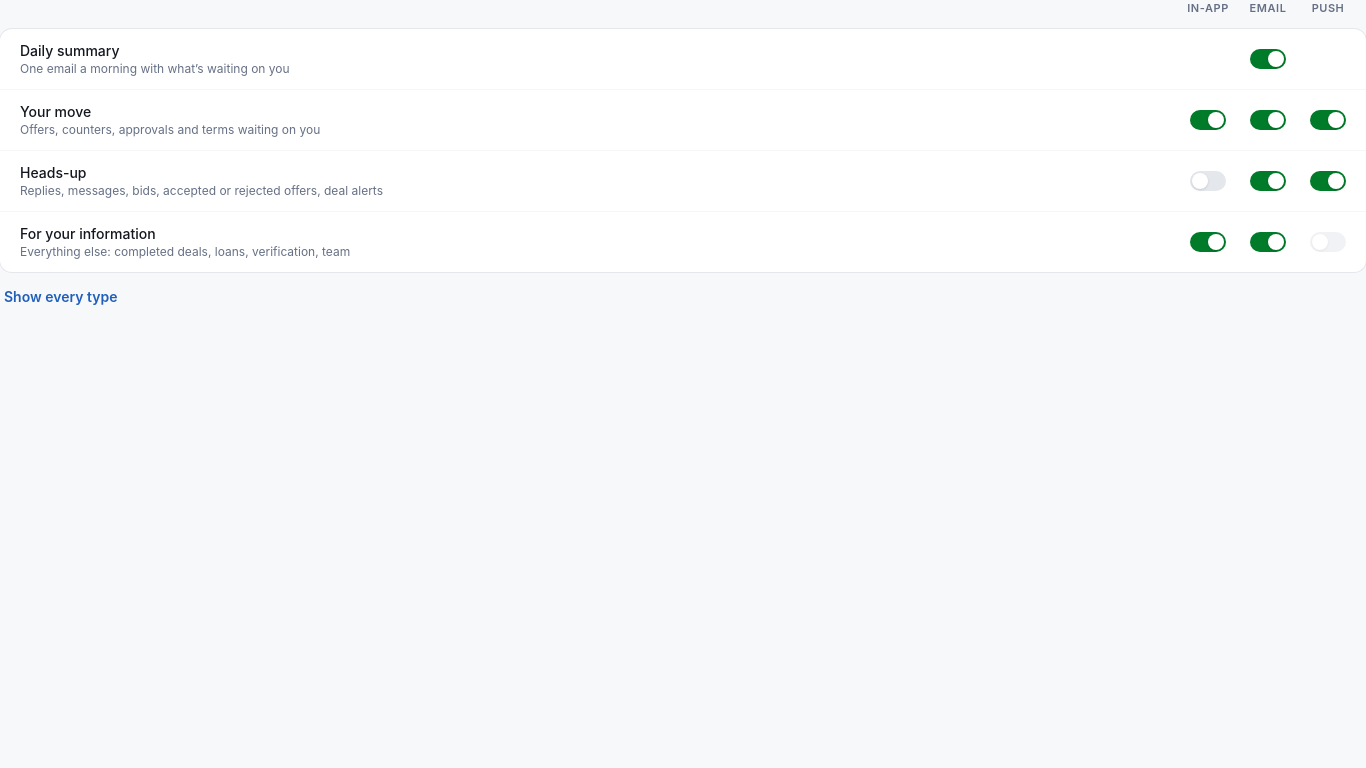
Scenario: NotificationTypesTable › shows the email and daily summary switches that were unreachable before
Expected: the text "Daily summary" is shown, [20,42,120,58]
Click the button "Show every type". click: (61, 296)
box: [0,286,122,306]
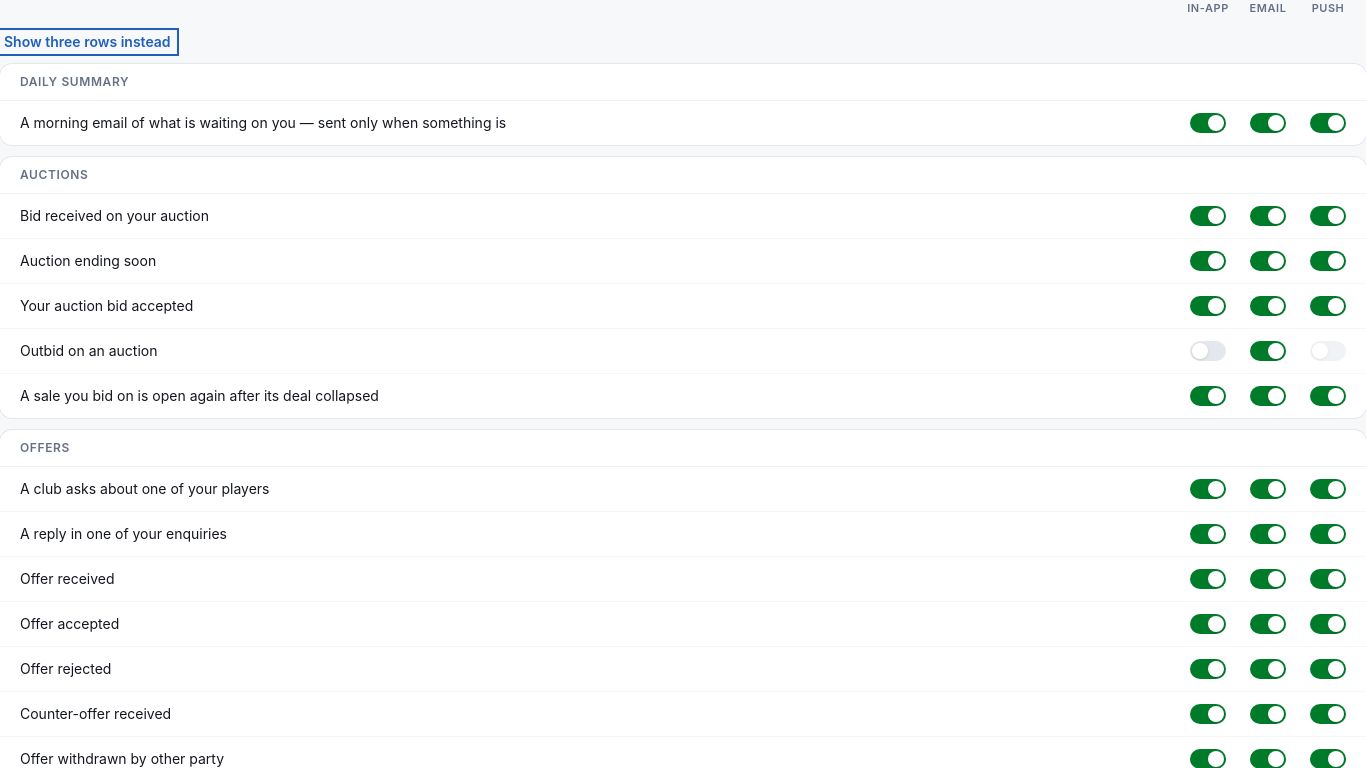
Now the switch named "Email: Offer received" is shown, box [1250,568,1286,588]
